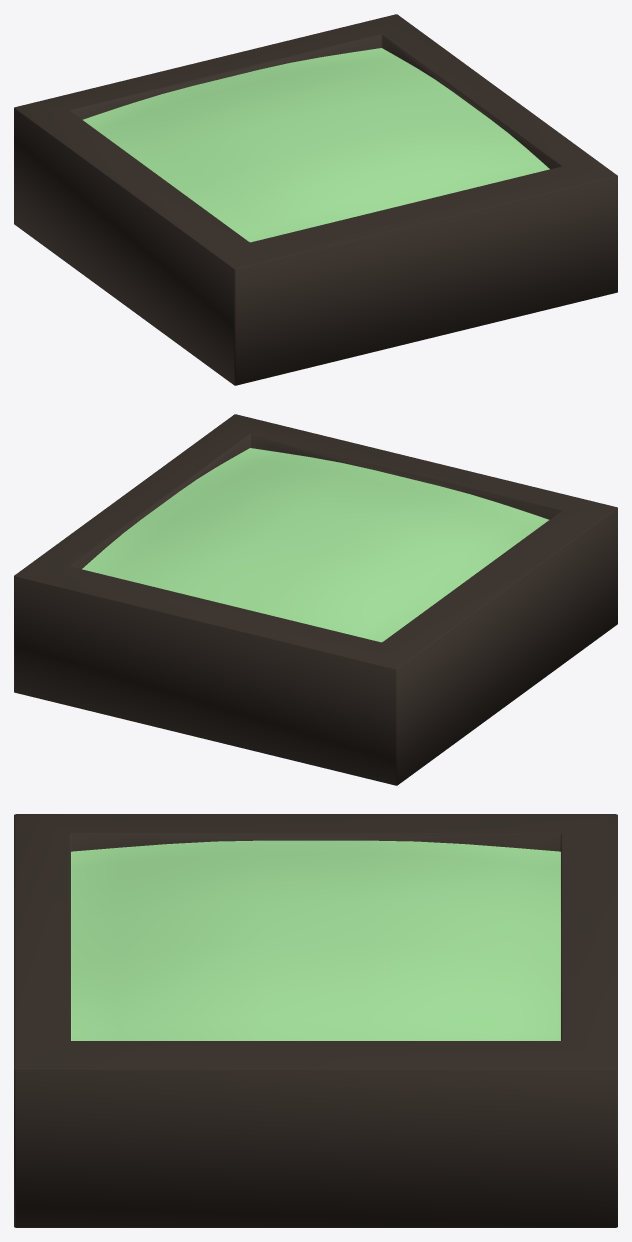
The model's file is CharaDecimate.glb.
The picture shows the model from 3 angles, top to bottom: view 1: azimuth 30°, elevation 25°; view 2: azimuth 150°, elevation 25°; view 3: azimuth 270°, elevation 25°; orthographic projection. The views are drawn at different scales.
Parts seen in each view (by area): view 1: Cube; view 2: Cube; view 3: Cube.
Part boxes in pixels (x1,y1,x2,y2): Cube: (14, 14, 617, 385); Cube: (14, 414, 617, 785); Cube: (14, 814, 617, 1227).
Bounding box in the file's own units: 20 × 6.49 × 20.
